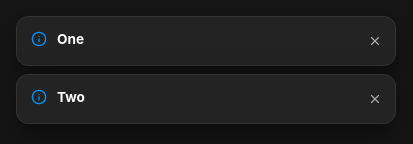
Test: Toaster › dismisses a notice with its button
The image size is (413, 144).
Step 1. Click the button named "Dismiss" in the row of "One" → x=375, y=41, box [363,29,387,53]
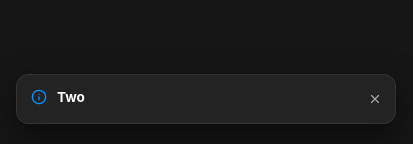
Expected: the text "Two" is shown, [57,89,85,105]
Expected: the text "One" is gone
